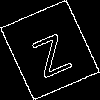Z: (25, 24, 74, 79)
